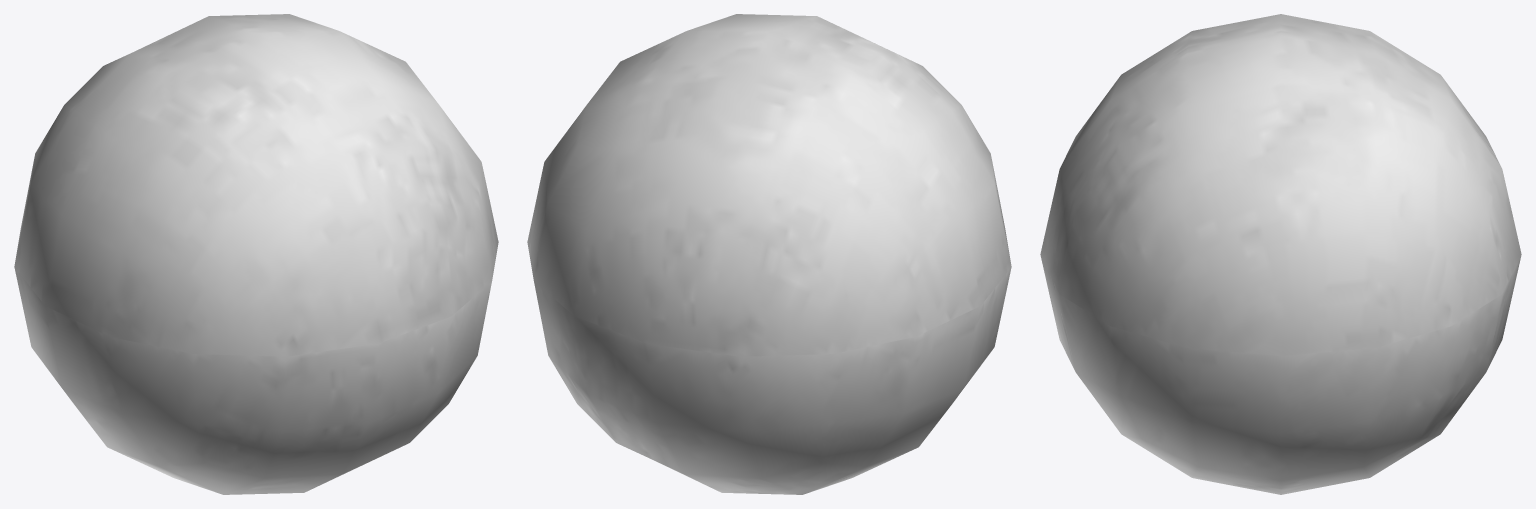
File: paintballpellet.glb
The picture shows the model from 3 angles, left to right: view 1: azimuth 30°, elevation 25°; view 2: azimuth 150°, elevation 25°; view 3: azimuth 270°, elevation 25°; orthographic projection.
Parts seen in each view (by area): view 1: Sphere; view 2: Sphere; view 3: Sphere.
Boxes of the visible parts, bbox=[...] form: Sphere: bbox=[14, 14, 498, 494]; Sphere: bbox=[527, 14, 1011, 494]; Sphere: bbox=[1040, 14, 1521, 494].
Size of the model in its own units: 0.0825 by 0.0825 by 0.0825.
Materials: 1 (1 with a texture image).
